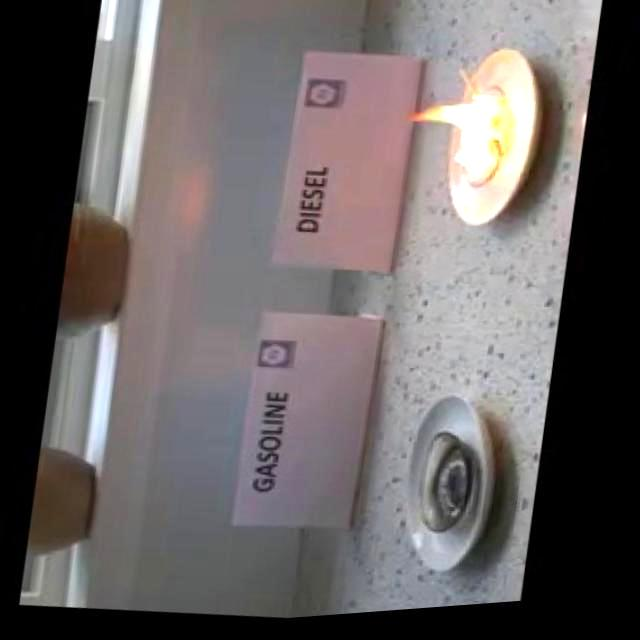fire: (359, 85, 513, 191)
